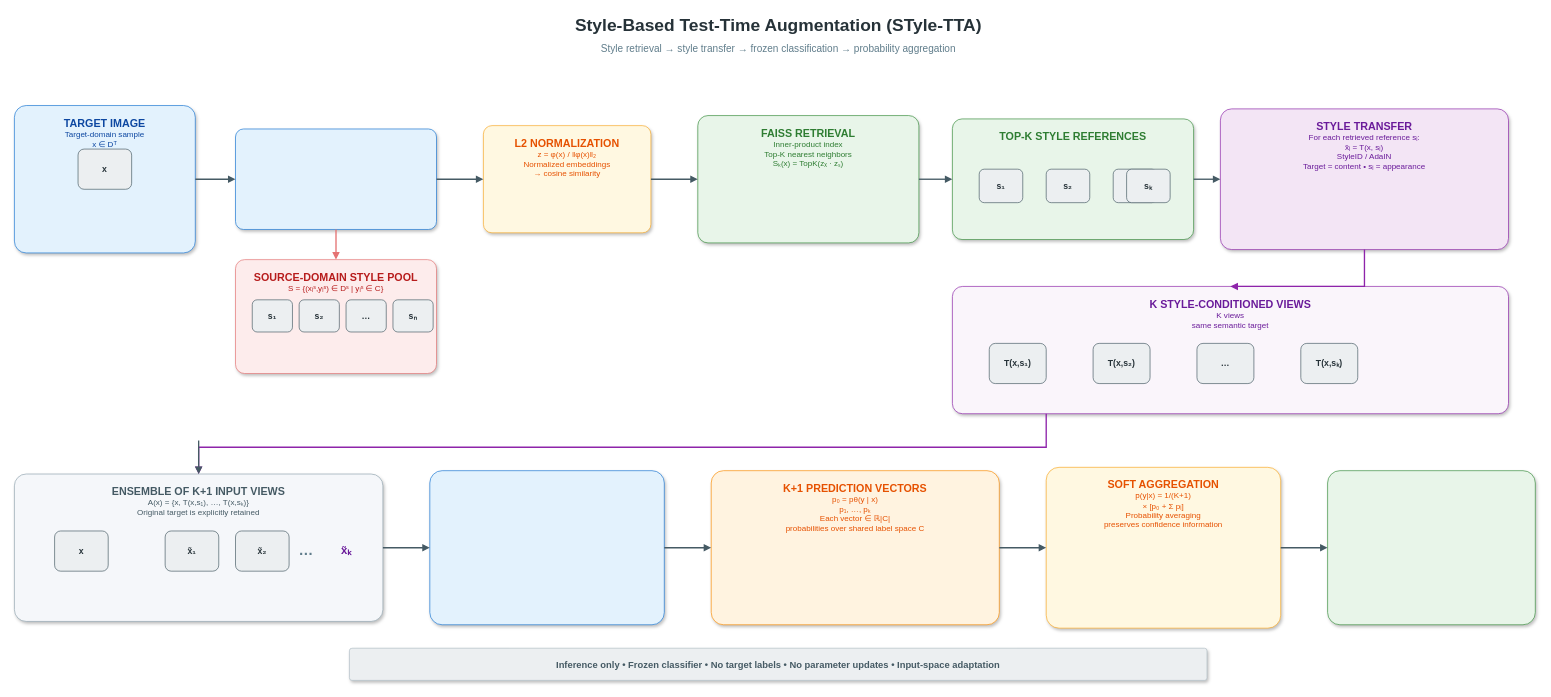
This 1551x697 diagram has some shape labels left out. Each missing label, with the centre of its shape:
DINOv3 Pretrained feature extractor φ(x) → ℝᵈ classification head removed: point (336, 180)
FINAL DECISION ŷ = argmax_c p̄(y=c|x) Predicted class: point (1431, 548)
FROZEN CLASSIFIER fθ Each image evaluated independently pᵢ = softmax(fθ(viewᵢ)): point (547, 548)
